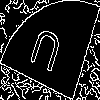U: (25, 25, 64, 83)
